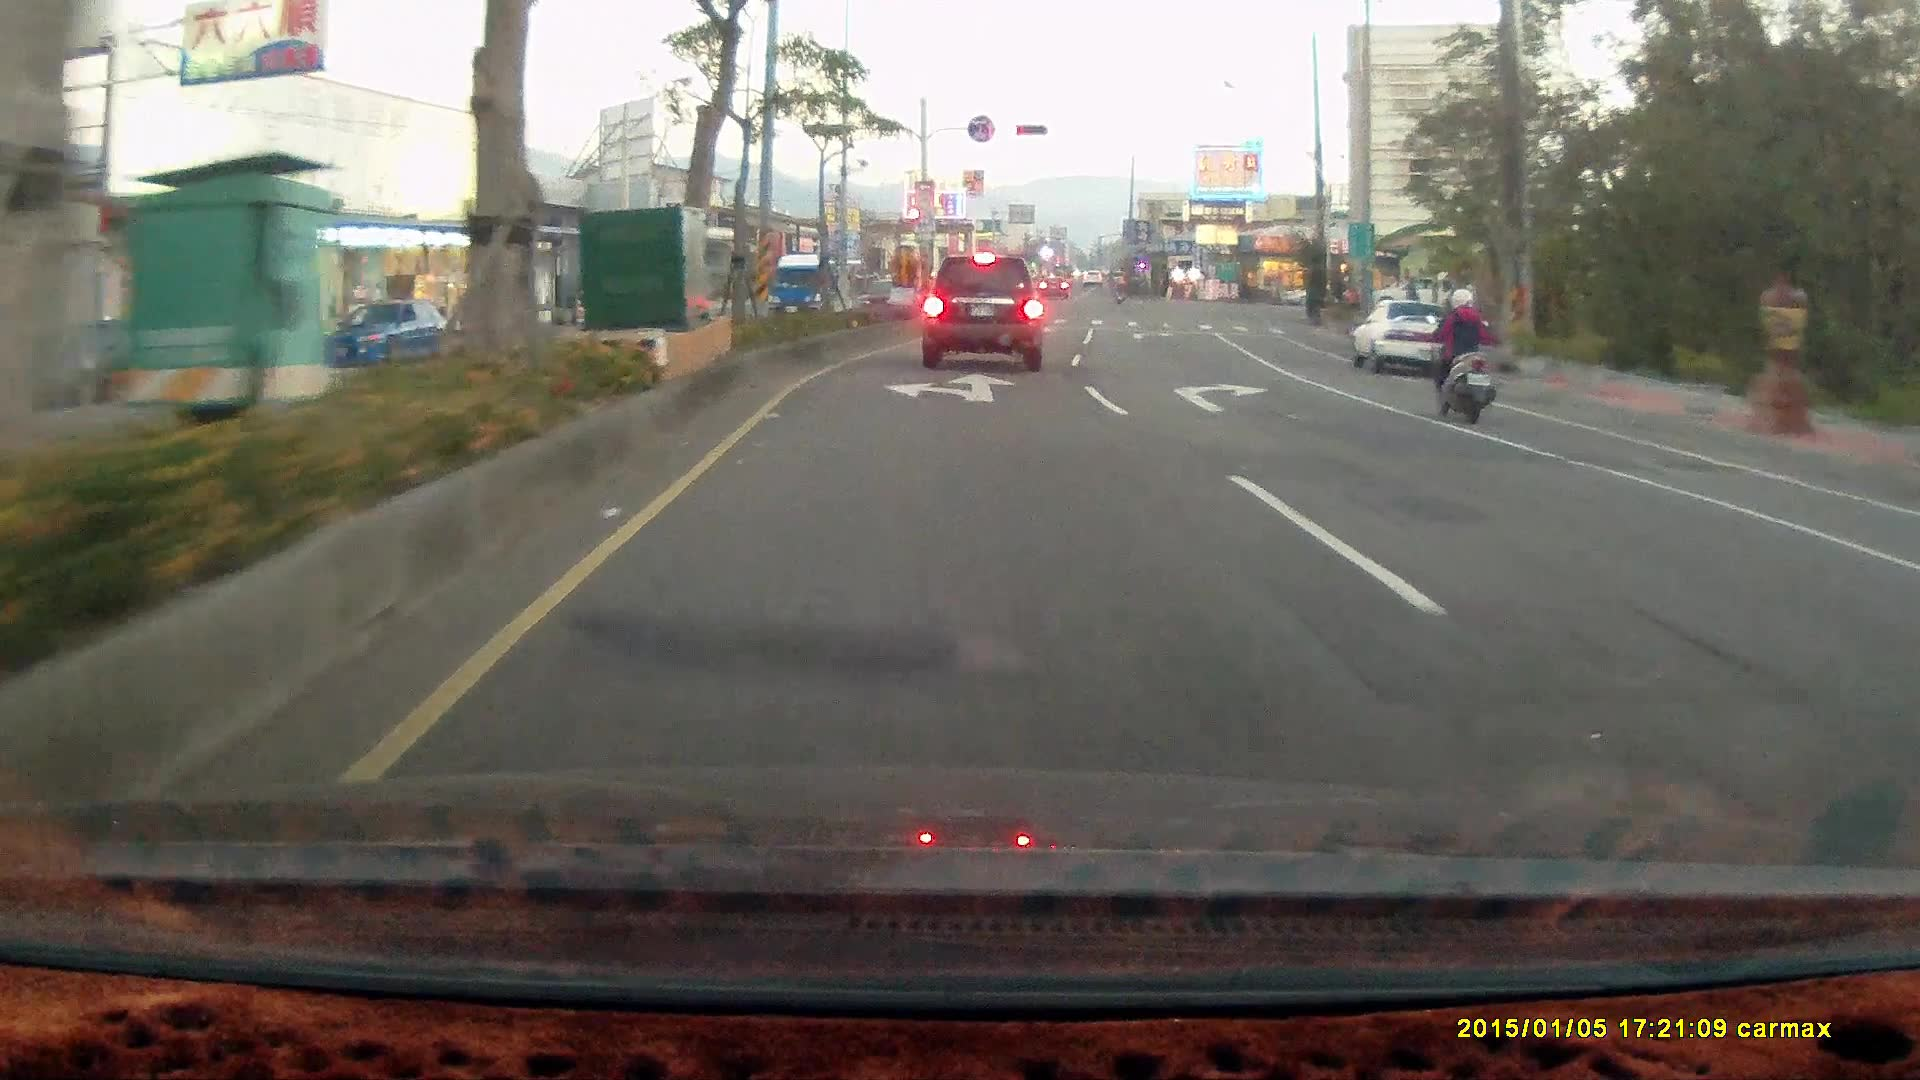rider: (1420, 281, 1499, 421)
vehicle: (920, 253, 1042, 371), (1352, 303, 1485, 378), (1347, 298, 1470, 379), (320, 298, 453, 369), (1896, 493, 1920, 836), (1883, 528, 1920, 690), (1368, 275, 1457, 313)
